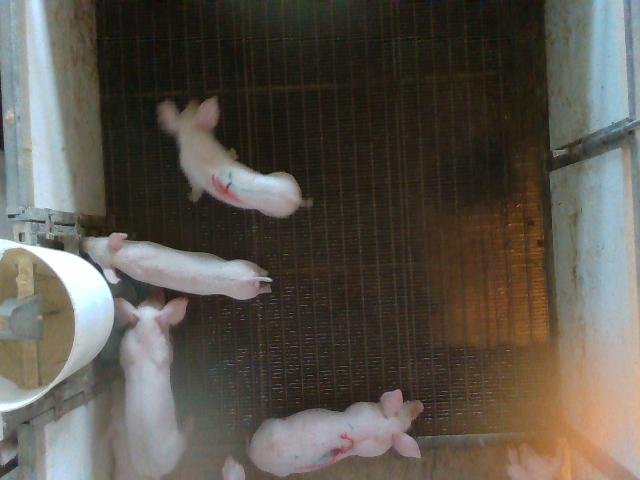pig-3: (249, 390, 424, 476)
pig-4: (158, 96, 311, 217)
